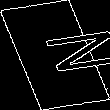N_W: (7, 30, 103, 80)
